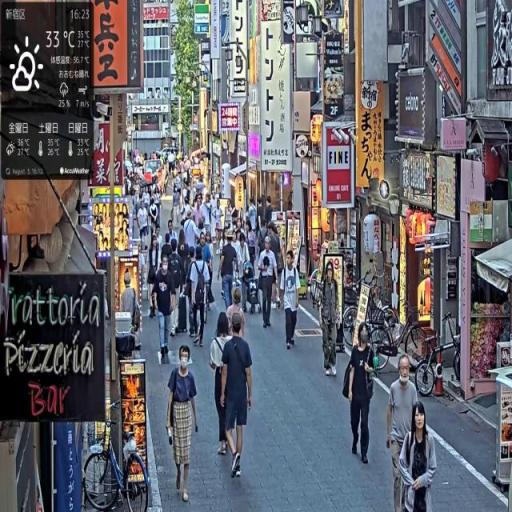person: (220, 311, 255, 484), (166, 346, 200, 503), (386, 353, 419, 512), (343, 324, 378, 468), (398, 400, 439, 512), (210, 313, 234, 457), (152, 252, 177, 365), (318, 261, 341, 379), (186, 247, 210, 349), (281, 248, 304, 351), (258, 238, 279, 332), (167, 240, 186, 336), (219, 231, 238, 314), (226, 285, 246, 339)
